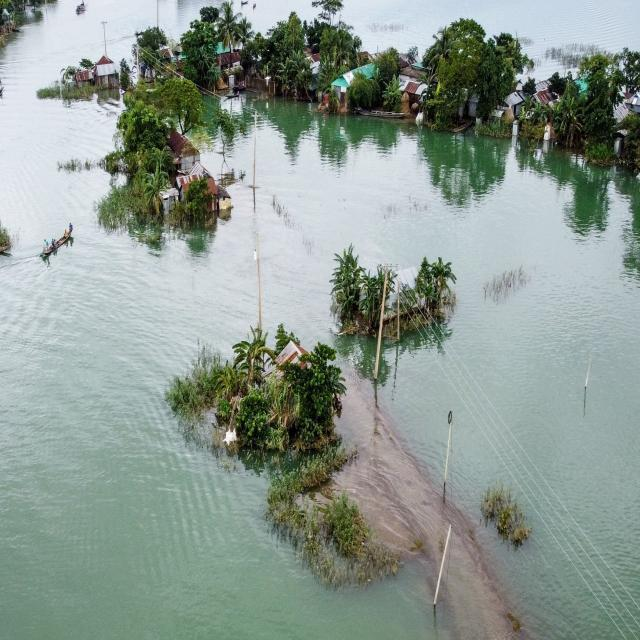flood: (0, 0, 640, 640), (343, 0, 640, 76), (159, 0, 218, 38), (242, 0, 315, 30)
house: (324, 57, 376, 116), (207, 44, 248, 90), (393, 70, 430, 114), (164, 117, 200, 160), (274, 332, 309, 372), (499, 88, 530, 124), (90, 56, 122, 90), (213, 183, 233, 211)
